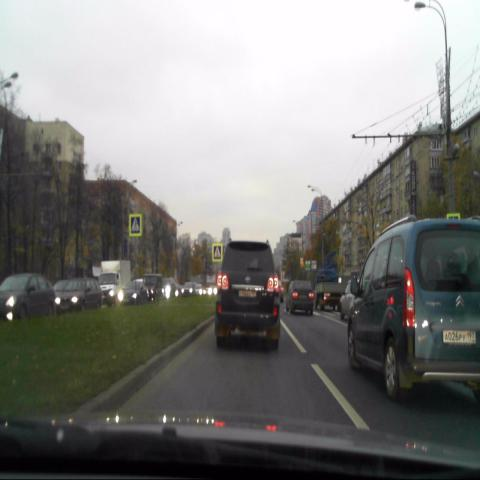5_19_1: (129, 214, 142, 237), (212, 243, 222, 262)
